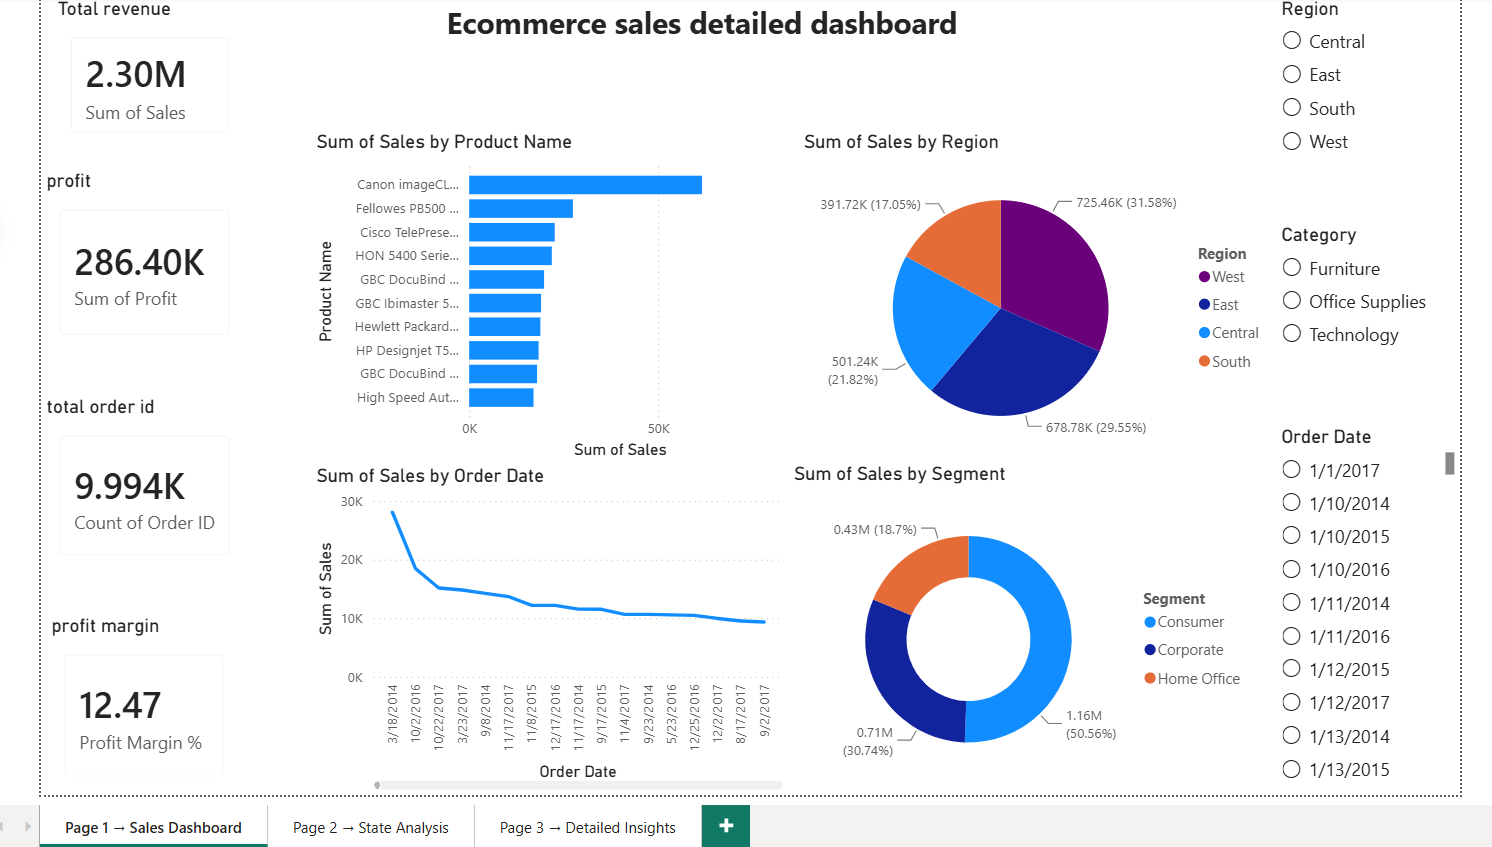

Layout of this report page (visuals, bound fields, positions):
{"tool":"powerbi","page":{"name":"Page 1 → Sales Dashboard","canvas":[1280,720],"ordinal":0},"visuals":[{"type":"cardVisual","title":"Total revenue","fields":{"Data":["Sum(Sample - Superstore.Sales)"]},"box":[9.8,0,177.3,139.4],"z":0},{"type":"cardVisual","title":"profit","fields":{"Data":["Sum(Sample - Superstore.Profit)"]},"box":[0,155.3,187.1,166.3],"z":1},{"type":"cardVisual","title":"total order id","fields":{"Data":["CountNonNull(Sample - Superstore.Order ID)"]},"box":[0,359.5,187.1,161.4],"z":2},{"type":"cardVisual","title":"profit margin","fields":{"Data":["Sample - Superstore.Profit Margin %"]},"box":[4.9,556.4,177.3,163.9],"z":3},{"type":"lineChart","fields":{"Category":["Sample - Superstore.Order Date"],"Y":["Sum(Sample - Superstore.Sales)"]},"box":[243.3,421.9,430.4,298.4],"z":4},{"type":"clusteredBarChart","fields":{"Category":["Sample - Superstore.Product Name"],"Y":["Sum(Sample - Superstore.Sales)"]},"box":[243.3,121.1,430.4,300.8],"z":5},{"type":"pieChart","fields":{"Category":["Sample - Superstore.Region"],"Y":["Sum(Sample - Superstore.Sales)"]},"box":[683,121,430,301],"z":6},{"type":"donutChart","fields":{"Category":["Sample - Superstore.Segment"],"Y":["Sum(Sample - Superstore.Sales)"]},"box":[673.8,419.4,421.9,300.8],"z":7},{"type":"listSlicer","fields":{"Values":["Sample - Superstore.Region"]},"box":[1114,0,166.3,204.2],"z":8},{"type":"listSlicer","fields":{"Values":["Sample - Superstore.Category"]},"box":[1114,204.2,166.3,155.3],"z":9},{"type":"listSlicer","fields":{"Values":["Sample - Superstore.Order Date"]},"box":[1114,386.4,166.3,333.8],"z":10}]}

Visuals, with their boxes on the page's 1280x720 design canvas (x1, y1, x2, y2). These are canvas units, not pixel positions in the 1492x847 screenshot, which may show the page scaled, cropped or inside an application window:
"Total revenue" cardVisual: Rect(10, 0, 187, 139)
"profit" cardVisual: Rect(0, 155, 187, 322)
"total order id" cardVisual: Rect(0, 360, 187, 521)
"profit margin" cardVisual: Rect(5, 556, 182, 720)
lineChart - Sample - Superstore.Order Date x Sum(Sample - Superstore.Sales): Rect(243, 422, 674, 720)
clusteredBarChart - Sample - Superstore.Product Name x Sum(Sample - Superstore.Sales): Rect(243, 121, 674, 422)
pieChart - Sample - Superstore.Region x Sum(Sample - Superstore.Sales): Rect(683, 121, 1113, 422)
donutChart - Sample - Superstore.Segment x Sum(Sample - Superstore.Sales): Rect(674, 419, 1096, 720)
listSlicer - Sample - Superstore.Region: Rect(1114, 0, 1280, 204)
listSlicer - Sample - Superstore.Category: Rect(1114, 204, 1280, 360)
listSlicer - Sample - Superstore.Order Date: Rect(1114, 386, 1280, 720)
